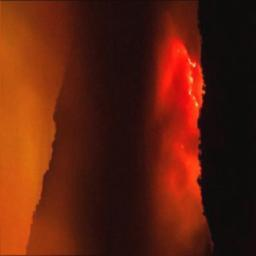Heavy smoke: (0, 0, 161, 256)
Large fire: (142, 0, 209, 255)
